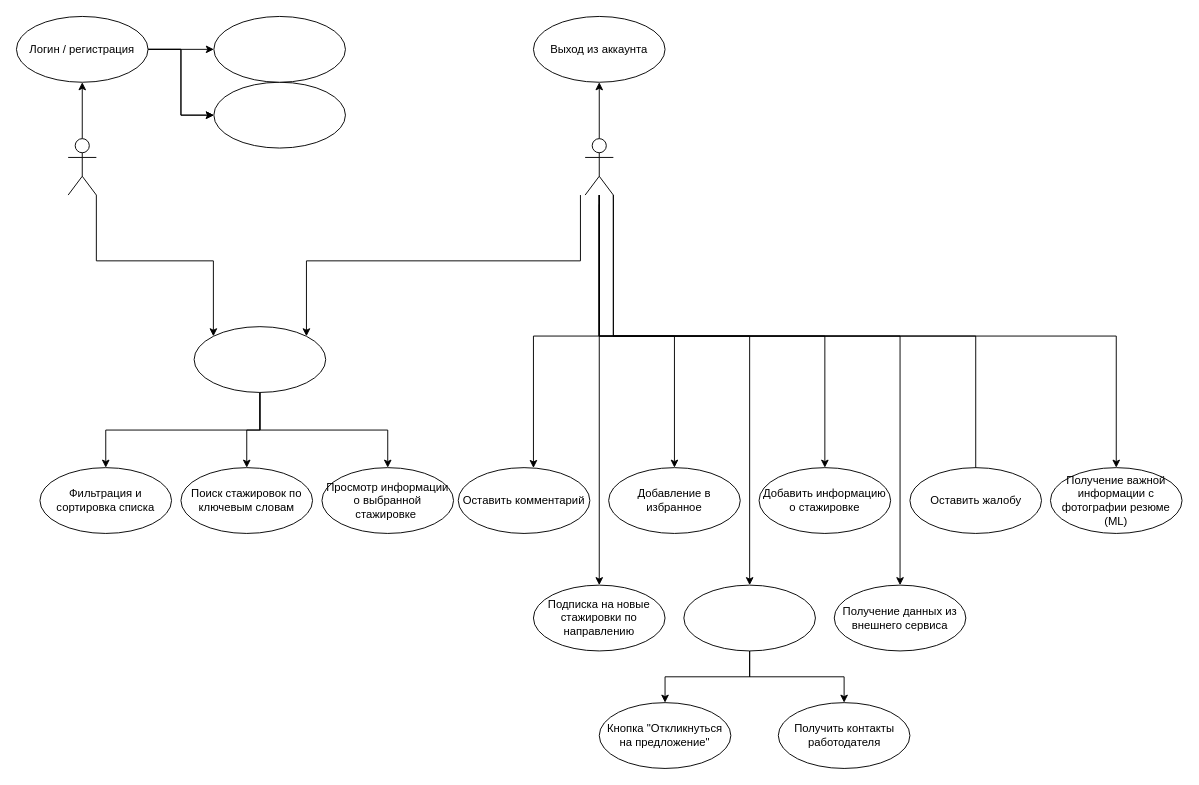
The diagram is 1199 pixels wide and 785 high, and some of its shapes have lost their labels. Here are the shapes that lost their labels. From the top down, the centre of each, then its label:
At point 279,49: "Авторизация через почту".
At point 279,114: "Авторизация через соцсети".
At point 81,166: "Гость".
At point 598,166: "Пользователь".
At point 259,359: "Просмотр списка стажировок".
At point 749,617: "Отклик на предложение".
